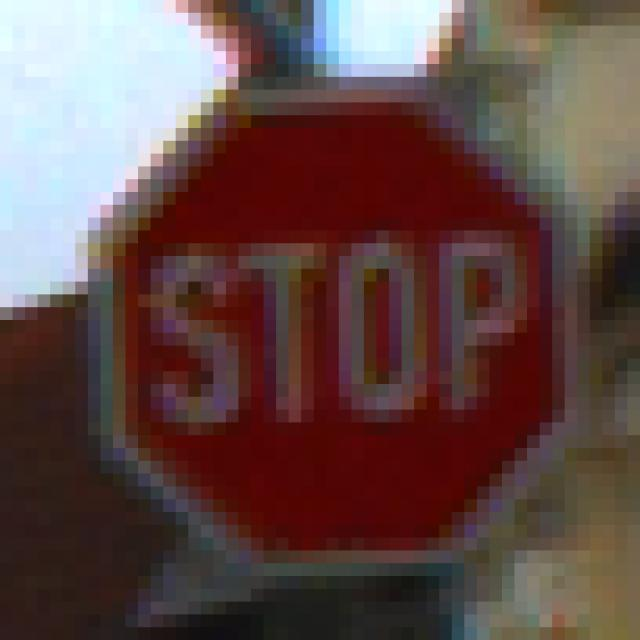STOP: (76, 78, 566, 577)
